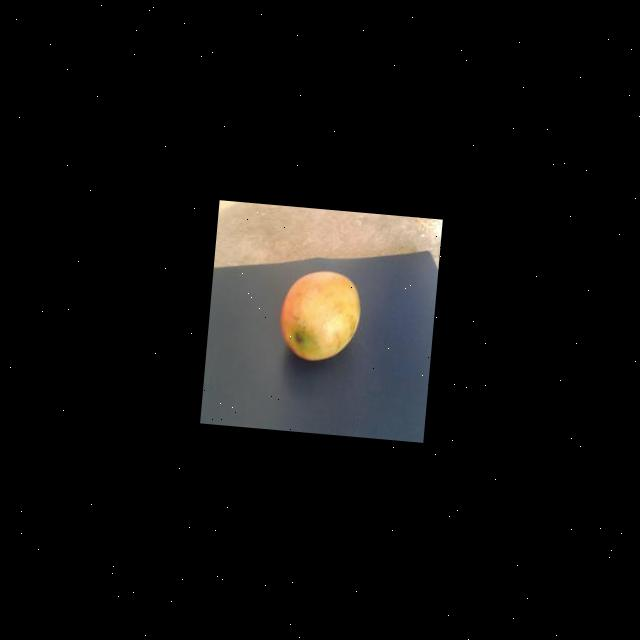Mango: (276, 264, 364, 364)
